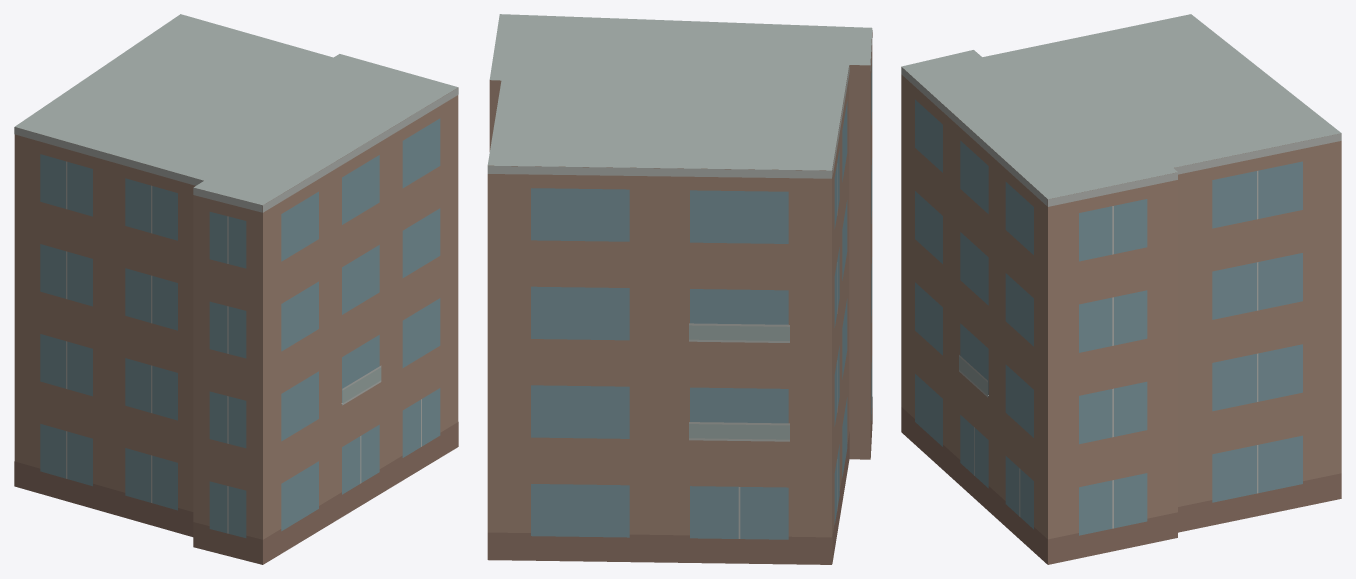
Rendered from survey-upis-32972364.glb.
The picture shows the model from 3 angles, left to right: view 1: azimuth 30°, elevation 25°; view 2: azimuth 150°, elevation 25°; view 3: azimuth 270°, elevation 25°; orthographic projection. The views are drawn at different scales.
Visible parts, largest first — view 1: survey-upis-32972364.tmp; view 2: survey-upis-32972364.tmp; view 3: survey-upis-32972364.tmp.
Part boxes in pixels (x1,y1,x2,y2): survey-upis-32972364.tmp: (14,14,458,564); survey-upis-32972364.tmp: (487,14,872,564); survey-upis-32972364.tmp: (901,14,1341,564).
Bounding box in the file's own units: 12.73 × 11.7 × 12.78.
